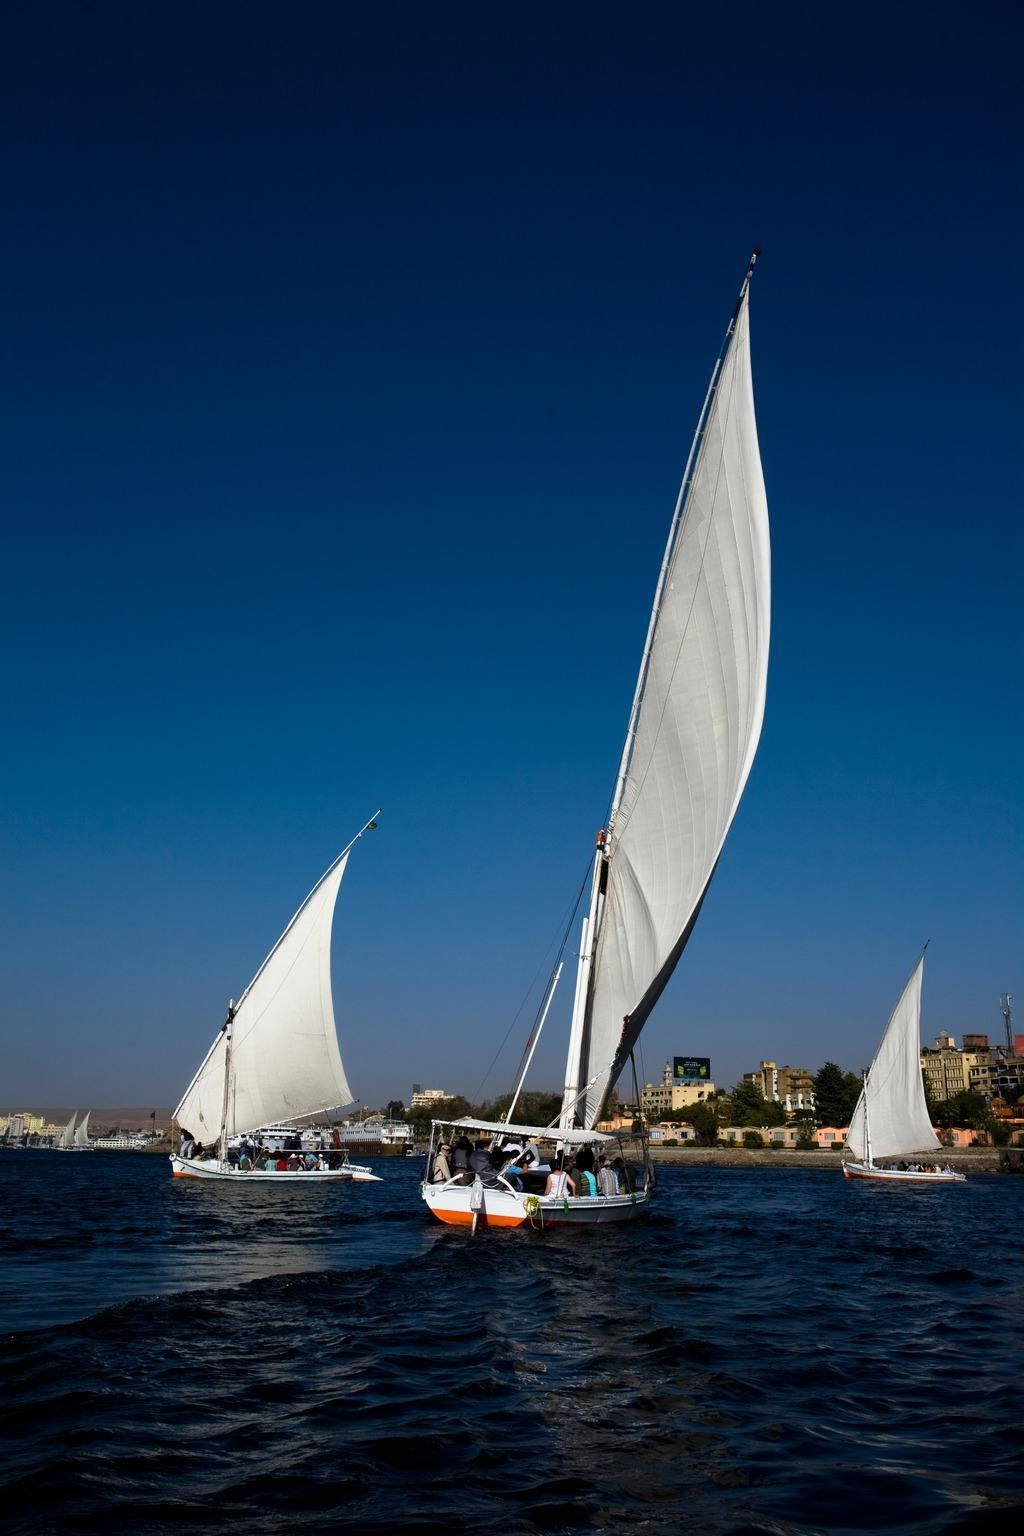fanchuan: (417, 249, 826, 1239), (149, 805, 421, 1201), (833, 955, 989, 1208)
